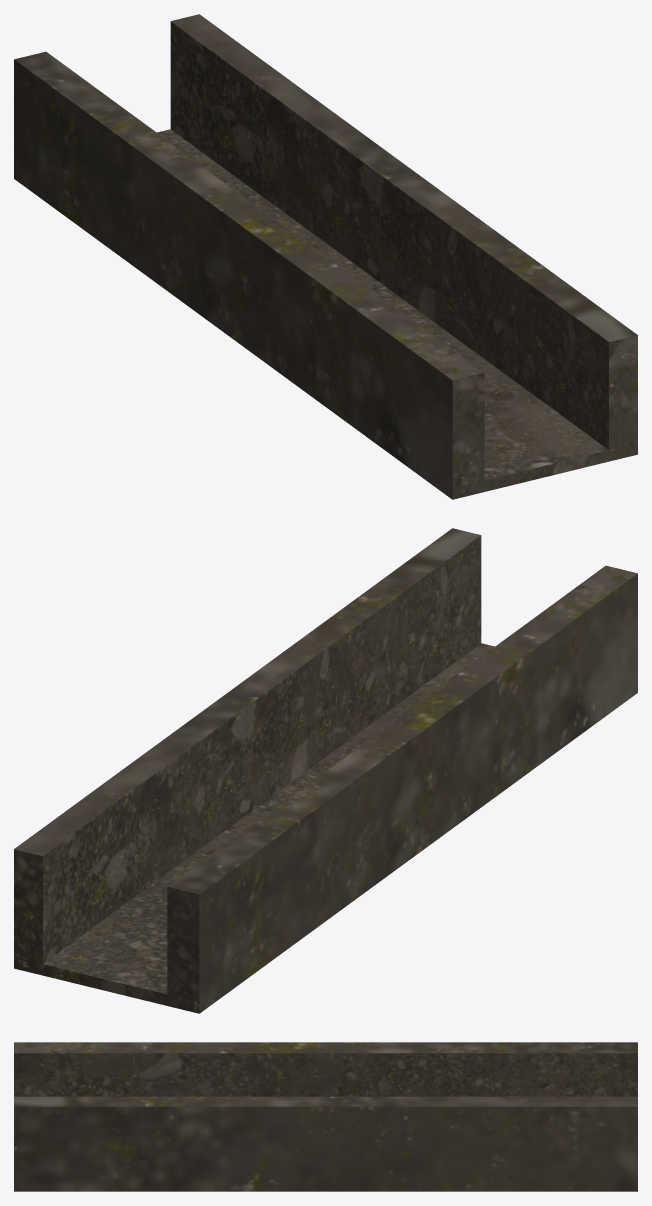
File: Straight.fbx
3 renders of one model, top to bottom at view 1: azimuth 30°, elevation 25°; view 2: azimuth 150°, elevation 25°; view 3: azimuth 270°, elevation 25°, orthographic. The views are drawn at different scales.
Visible parts, largest first — view 1: polySurface13; view 2: polySurface13; view 3: polySurface13.
Part boxes in pixels (left/top/right/bottom): polySurface13: left=14, top=14, right=637, bottom=499; polySurface13: left=14, top=528, right=637, bottom=1013; polySurface13: left=14, top=1042, right=637, bottom=1191.
Size of the model in its own units: 842 by 518 by 3450.
1 material, 1 textured.
